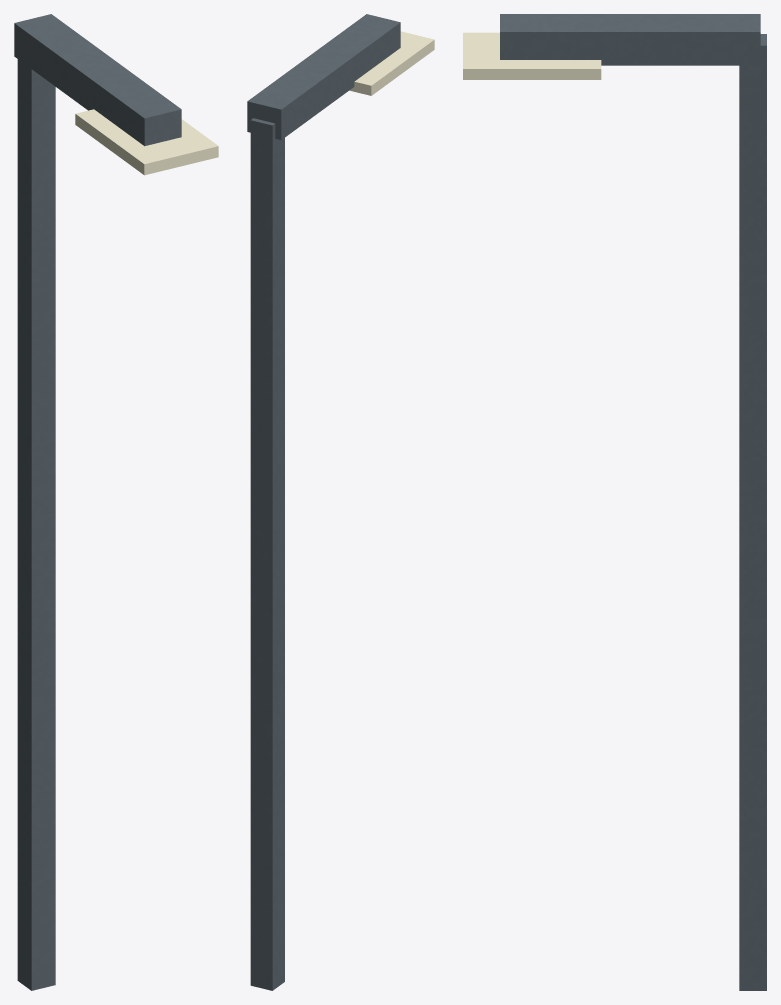
File: city-lamp.glb
3 renders of one model, left to right at view 1: azimuth 30°, elevation 25°; view 2: azimuth 150°, elevation 25°; view 3: azimuth 270°, elevation 25°, orthographic. The views are drawn at different scales.
Bounding box in the file's own units: 0.28 × 3.46 × 0.99.
2 materials, 1 textured.
